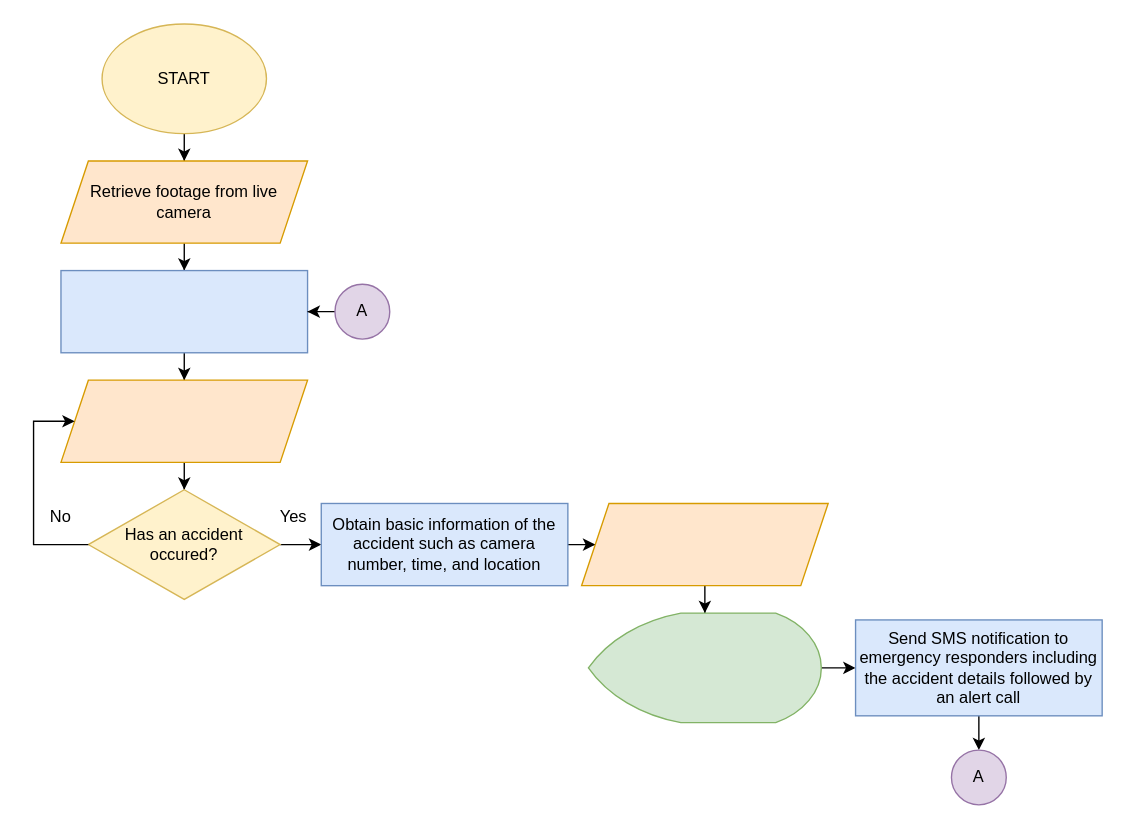
This 1126x829 diagram has some shape labels left out. Here are the shapes that lost their labels. From the top down, the box of each, then its label:
(60, 269, 308, 353): Implement the car crash accident detection model on the video footage
(60, 379, 308, 462): Switch on the green LED to indicate active monitoring state
(580, 502, 828, 586): Switch on red LED to turn on Buzzer/Alarm
(587, 612, 821, 723): Display Accident Notification on the LCD
